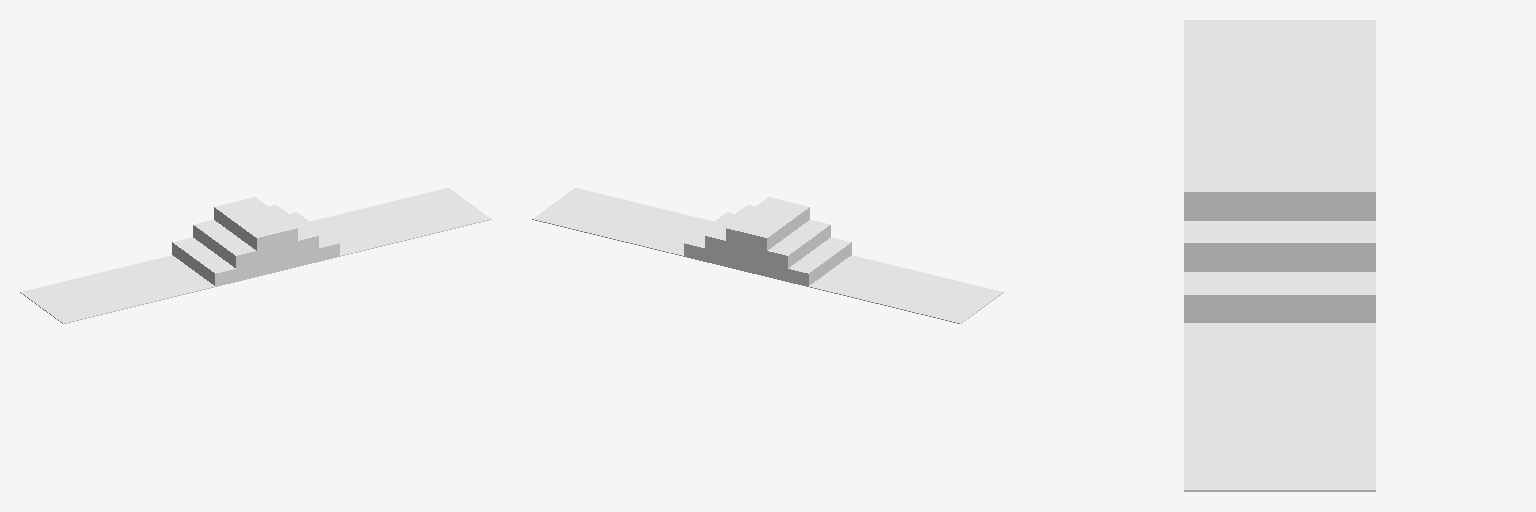
URDF robot description (ori_plinth):
<robot name="ori_plinth">
  <link name="base_link">
    <visual>
      <origin xyz="0 0 0" rpy="0 0 0" />
      <geometry>
        <mesh filename="package://hpp_environments/meshes/multicontact/ori_plinth.stl"/>
      </geometry>
      <material name="white">
        <color rgba="1 1 1 1"/>
      </material>
    </visual>
    <collision>
      <origin xyz="0 0 0" rpy="0 0 0" />
      <geometry>
        <mesh filename="package://hpp_environments/meshes/multicontact/ori_plinth.stl"/>
      </geometry>
    </collision>
  </link>
</robot>

--- Render facts (derived) ---
3 views of the same robot in one strip: view 1: azimuth 30°, elevation 25°; view 2: azimuth 150°, elevation 25°; view 3: azimuth 270°, elevation 25° (orthographic).
Robot: ori_plinth — 1 links, 0 joints (none); root link base_link; default pose: all joints at 0.
Links seen in each view (by area): view 1: base_link; view 2: base_link; view 3: base_link.
Boxes of the visible links, box(x1,y1,x2,y2) form: base_link: box(20, 188, 491, 323); base_link: box(532, 188, 1003, 323); base_link: box(1184, 20, 1375, 491).
Bounding box of the posed robot: 6 × 1.04 × 0.52 m (x, y, z).
1 mesh visuals loaded from 1 distinct referenced files (1 ASCII STL).
